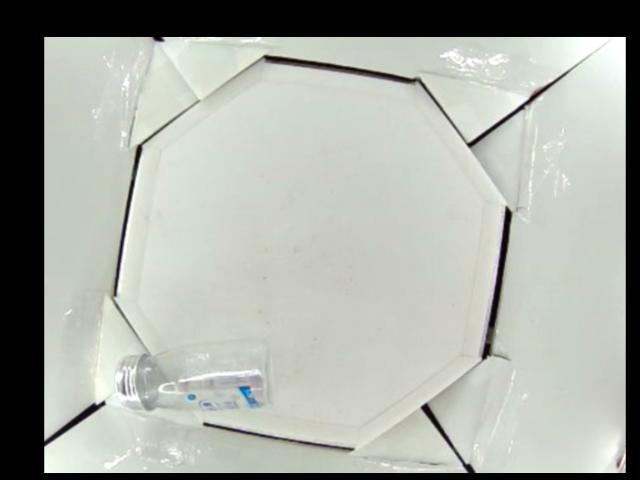Bottle: (113, 339, 272, 414)
